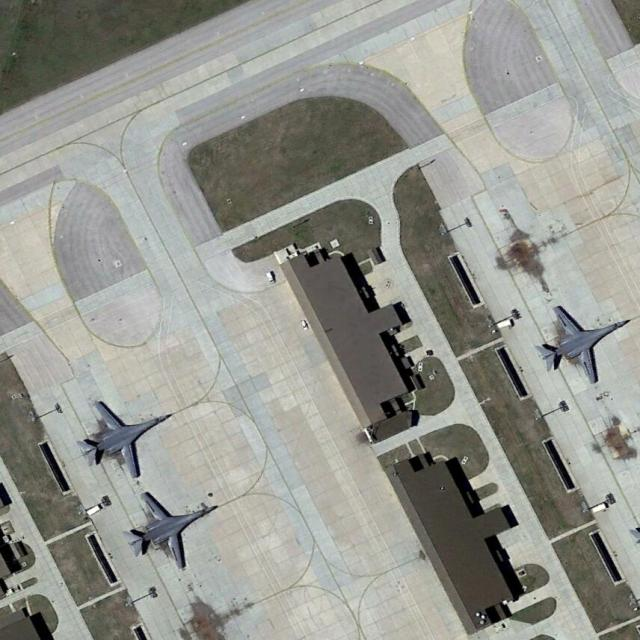fighter jet: (68, 403, 182, 469), (533, 300, 629, 378), (126, 481, 214, 565)
